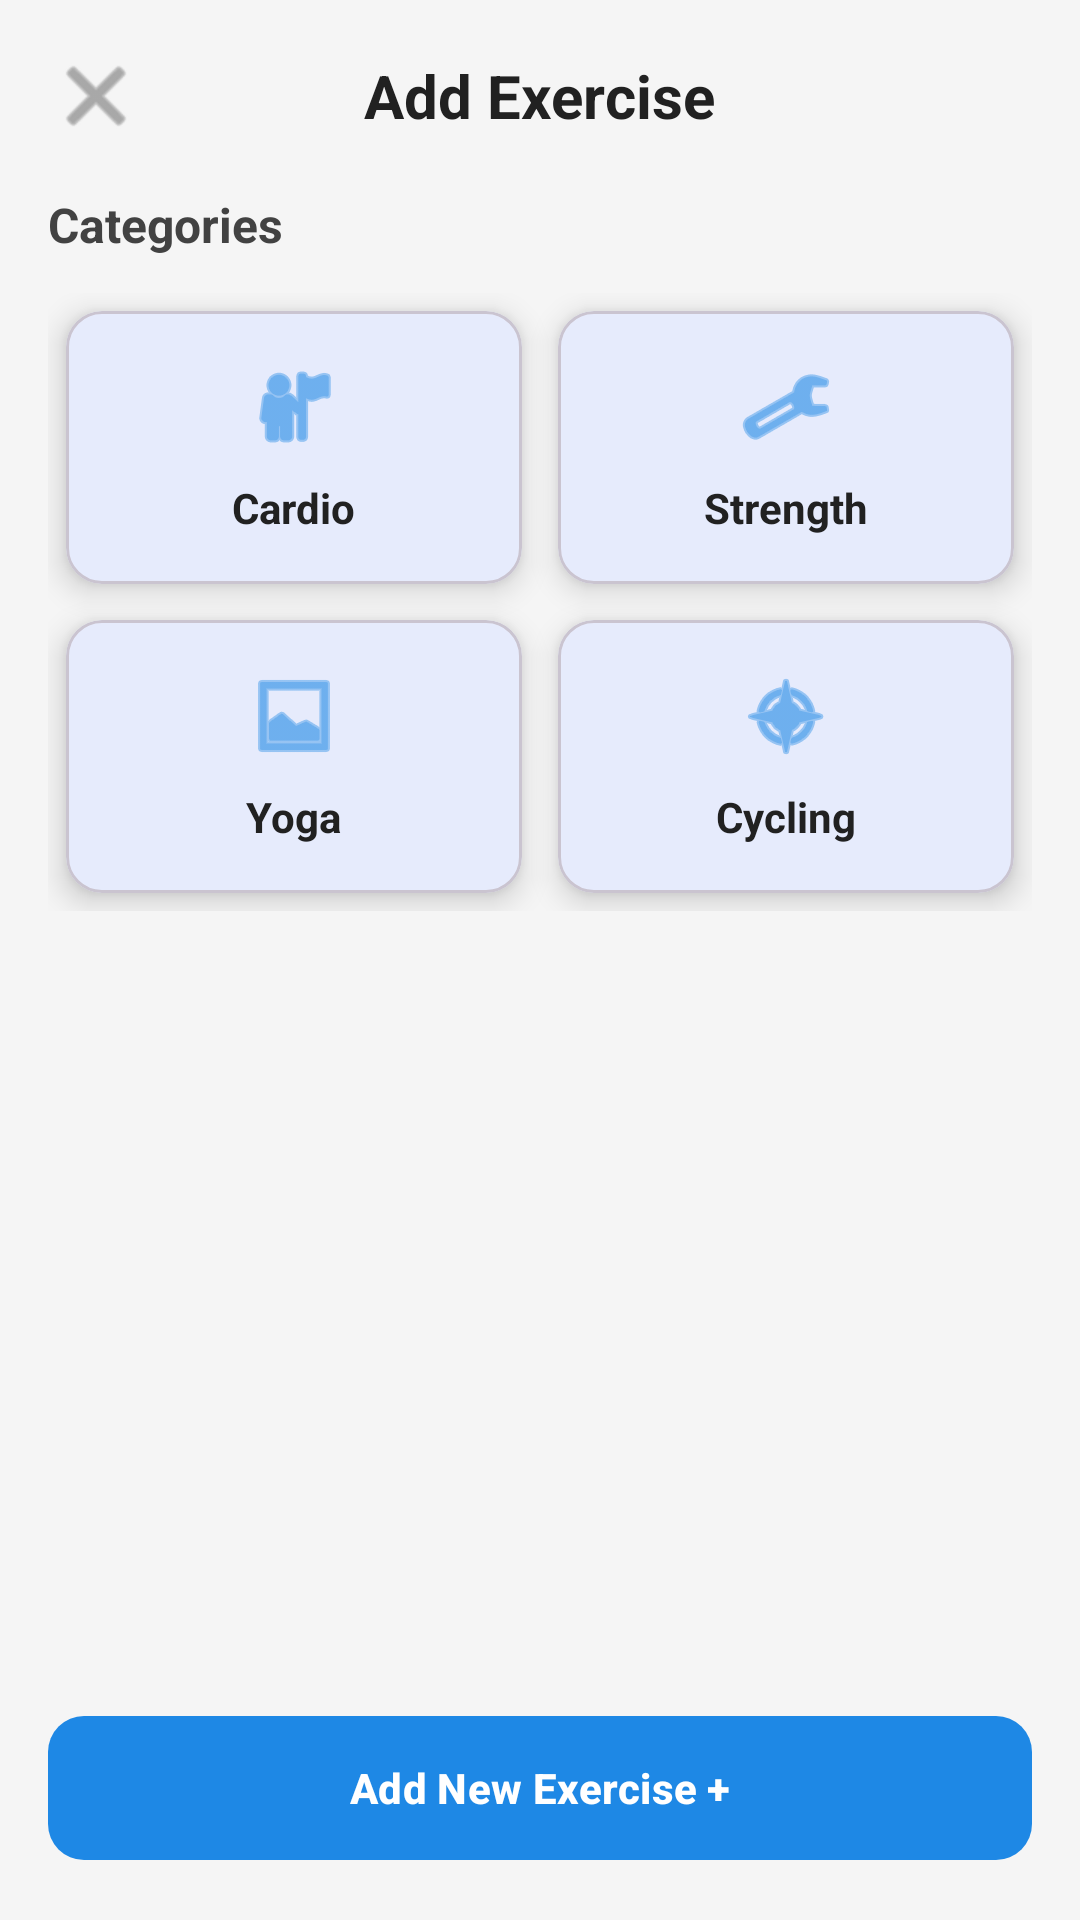

Locate icon controls on the screen. Image size 1080 x 1920, boxes as [x1=x1, y1=y1, x2=x2, y2=y2].
Close: [x1=66, y1=66, x2=126, y2=126]
compass: [x1=748, y1=679, x2=824, y2=754]
gallery: [x1=258, y1=680, x2=330, y2=752]
manage: [x1=743, y1=374, x2=829, y2=440]
